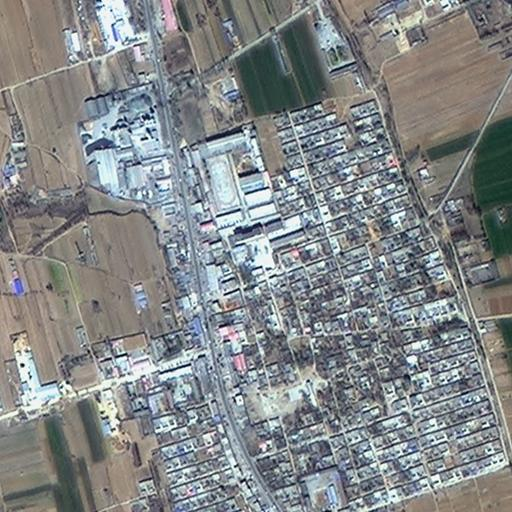school: (187, 121, 279, 227)
